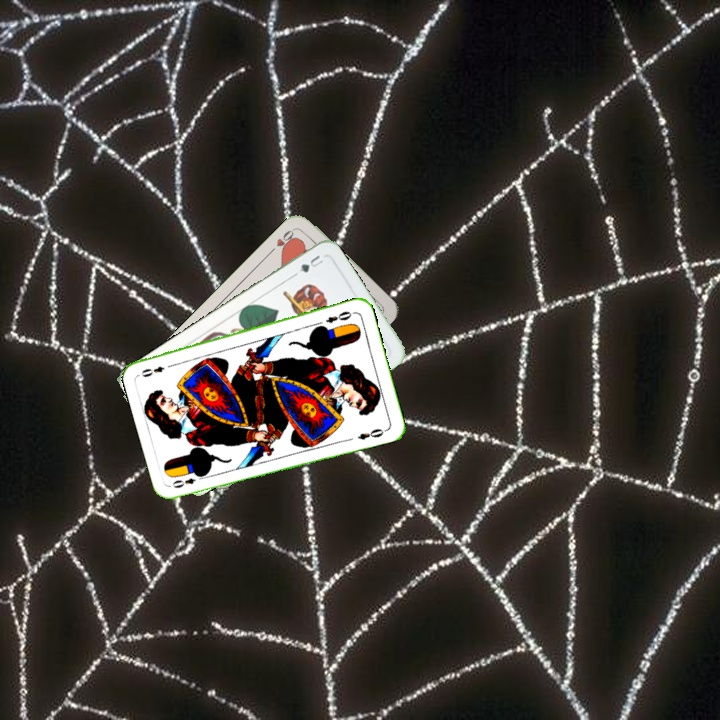EO: (168, 471, 207, 491), (322, 307, 357, 326)
GU: (290, 251, 326, 278)
HO: (266, 224, 299, 256)
